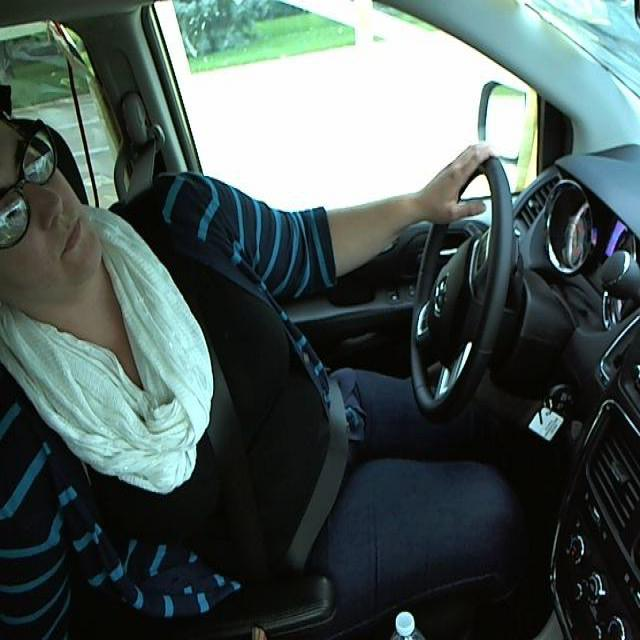seatbelt: (142, 303, 353, 566)
